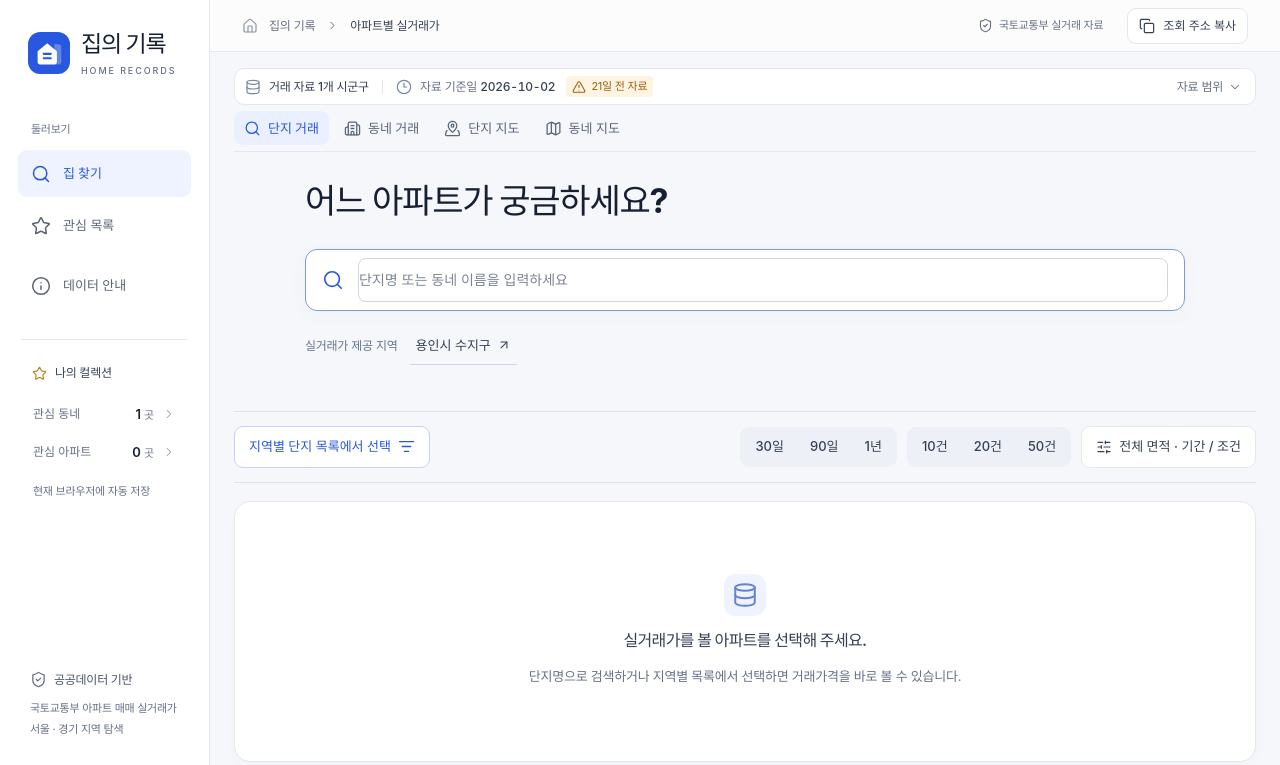
Test: React transaction explorer › shows saved dong favorites and opens only the chosen region without a preset
Click the button "전체 면적 · 기간 / 조건".
click(1169, 447)  # box [1081,426,1256,468]
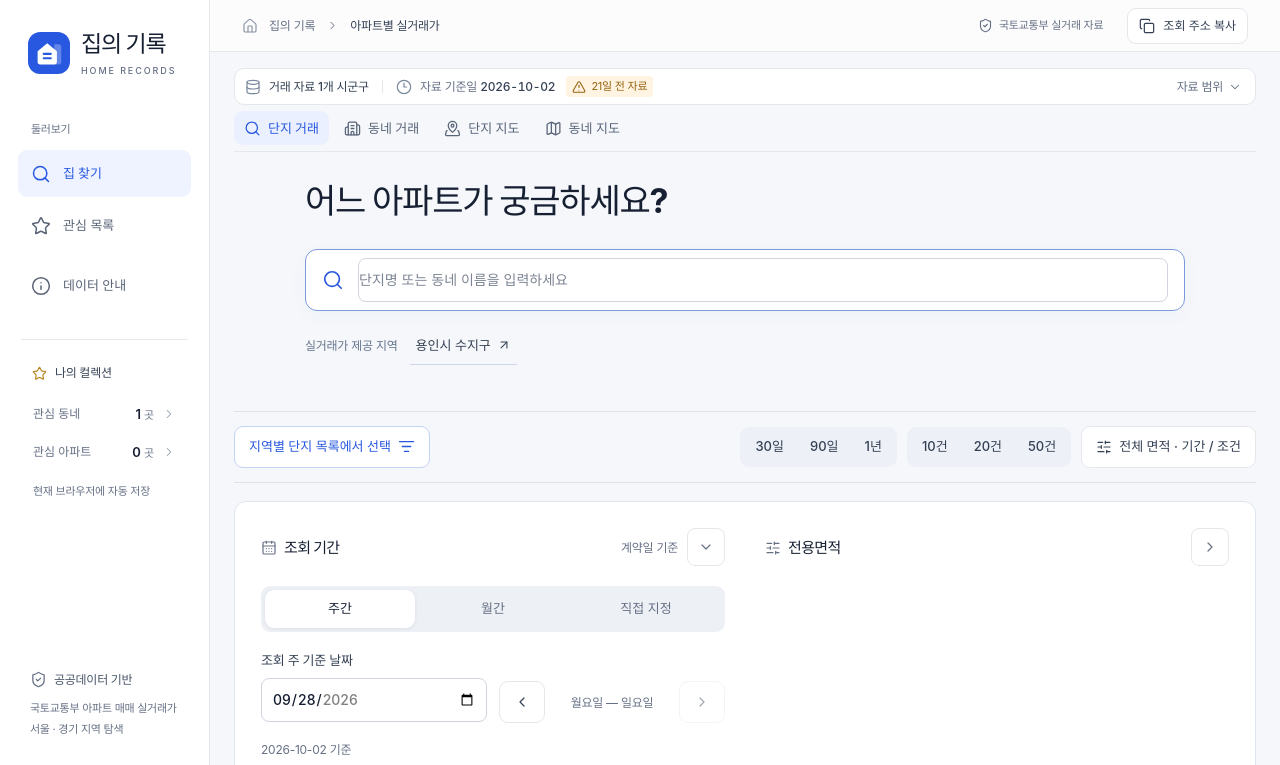
Click the button "지역별 단지 목록에서 선택".
click(332, 447)  # box [234,426,430,468]
(page scrolled)
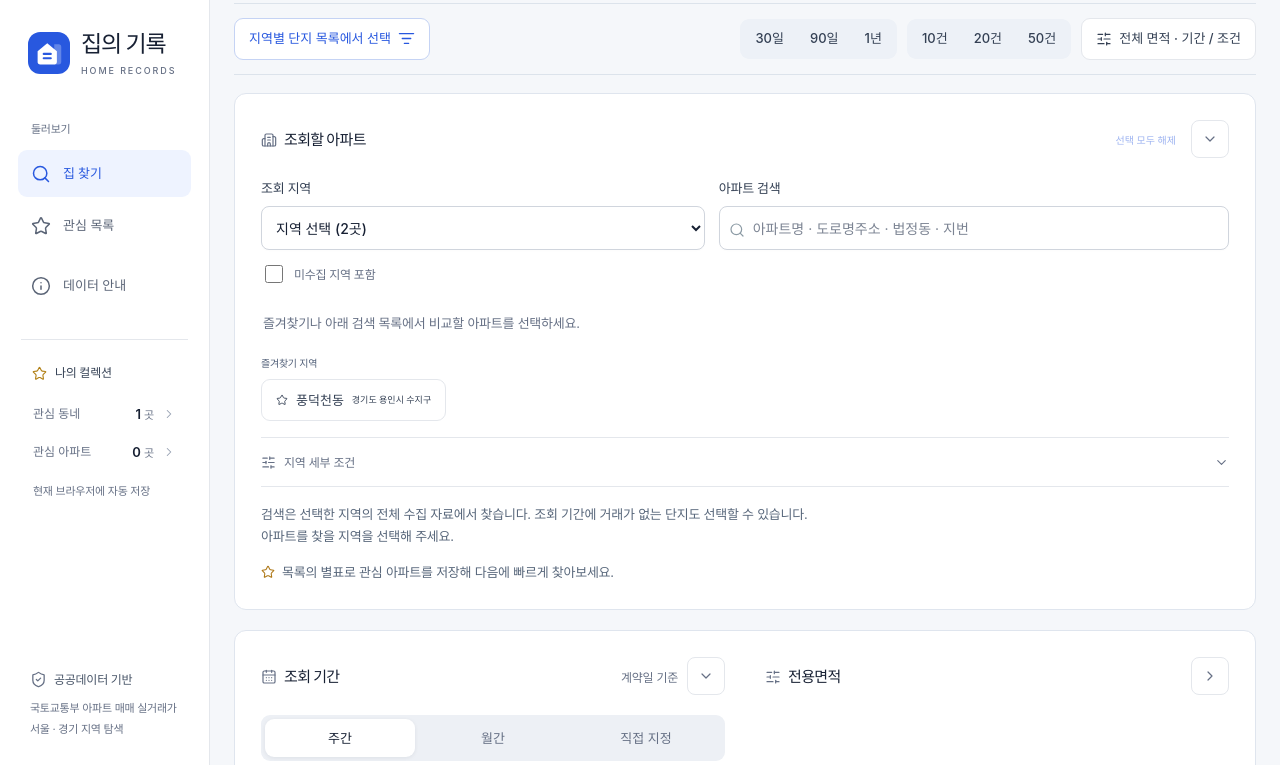
Now the element "즐겨찾기 지역" is shown, box [261,357,446,421]
Click the button "풍덕천동 경기도 용인시 수지구".
click(354, 400)  # box [261,379,446,421]
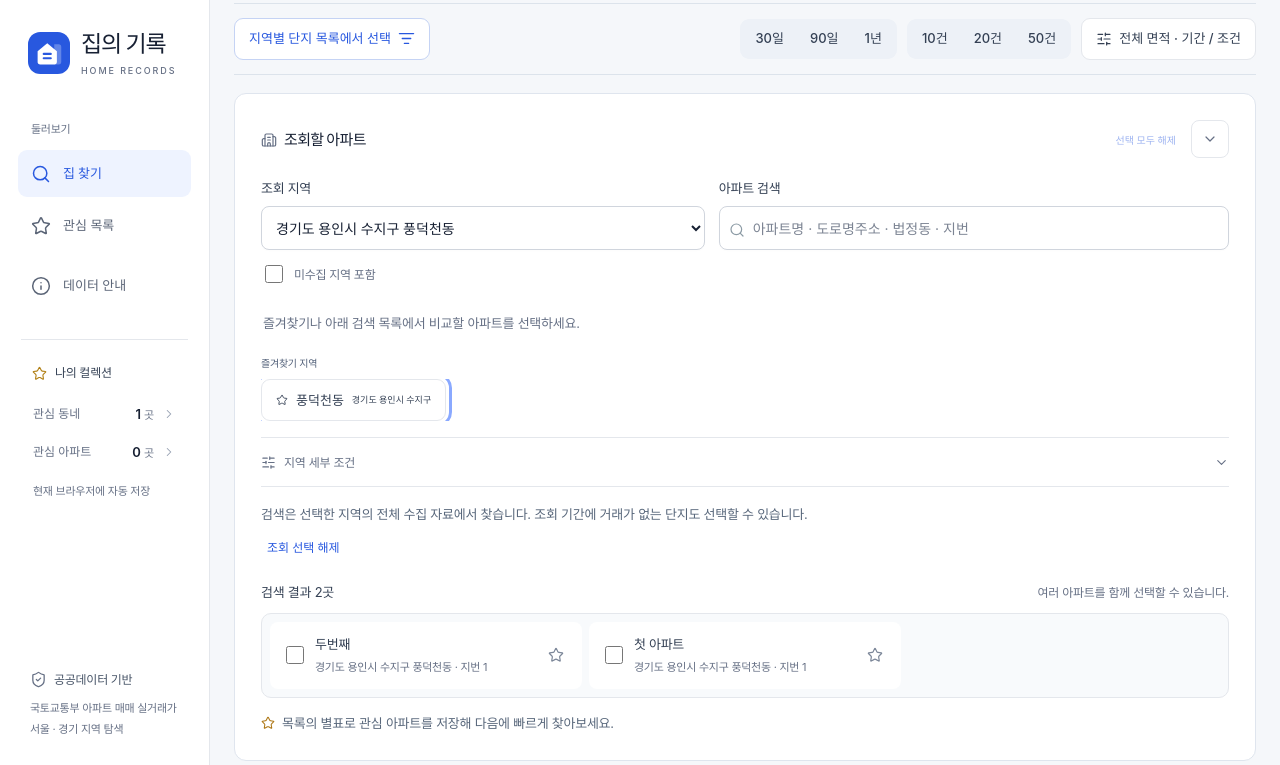
Now the element named "검색 아파트 선택" is shown, box [261,613,1229,698]
Click the button "조회 선택 해제".
click(303, 548)  # box [261,530,346,566]
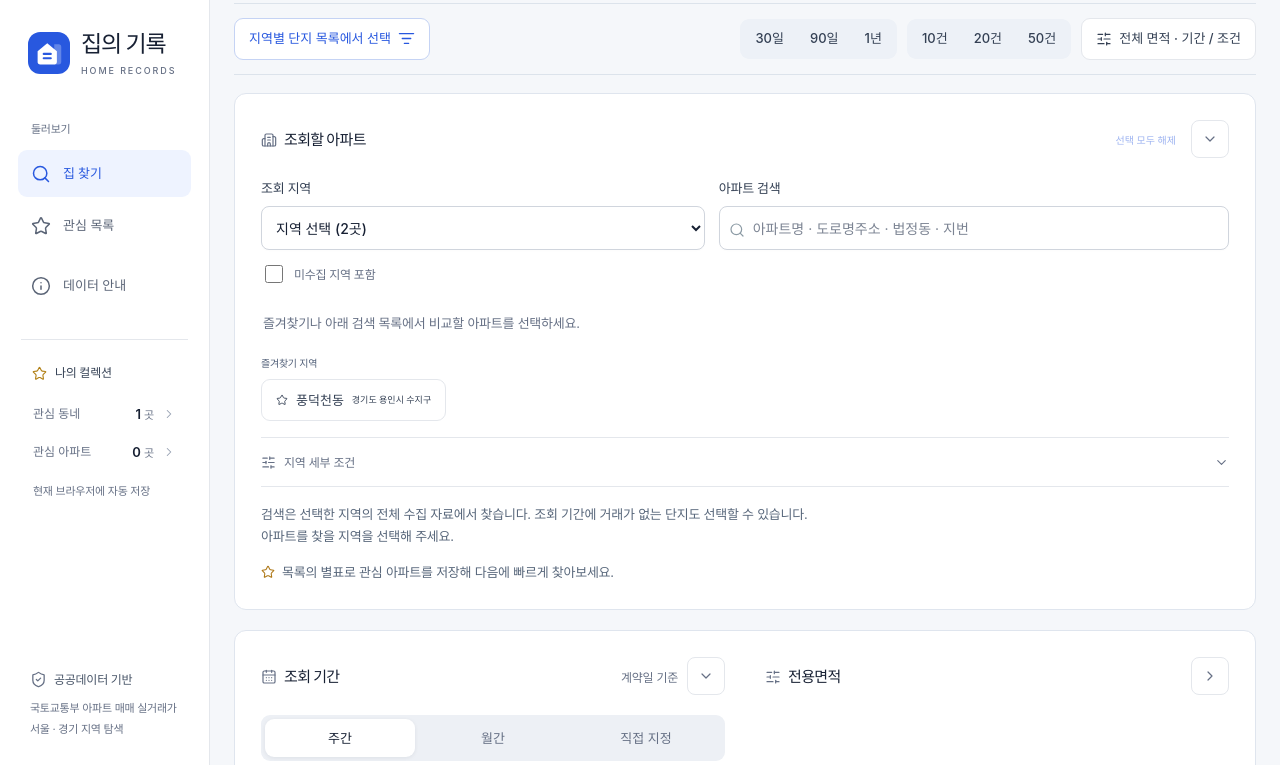
Now the text "아파트를 찾을 지역을 선택해 주세요." is shown, box [261,528,454,544]
